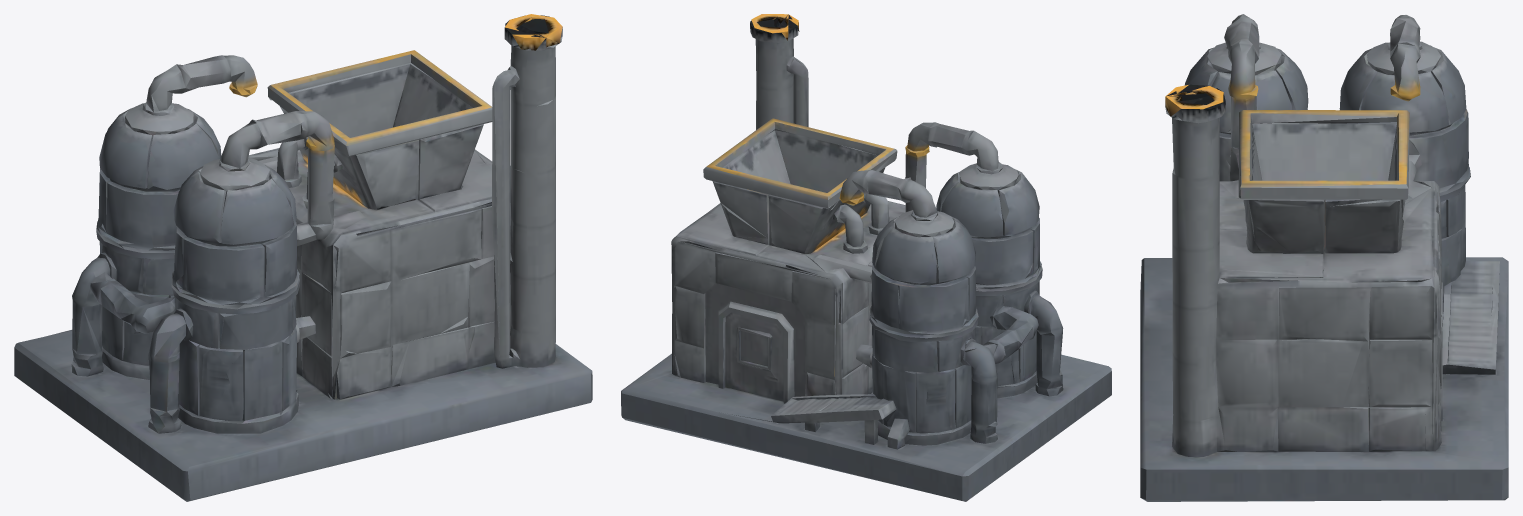
File: town-refinery-light.glb
3 views of the same model, side by side, from view 1: azimuth 30°, elevation 25°; view 2: azimuth 150°, elevation 25°; view 3: azimuth 270°, elevation 25° (orthographic). The views are drawn at different scales.
Visible parts, largest first — view 1: town-refinery-light; view 2: town-refinery-light; view 3: town-refinery-light.
Part boxes in pixels (x1,y1,x2,y2): town-refinery-light: (14,14,592,501); town-refinery-light: (621,14,1111,501); town-refinery-light: (1140,14,1508,501).
Size of the model in its own units: 14.39 by 12.38 by 10.63.
1 material, 1 textured.
